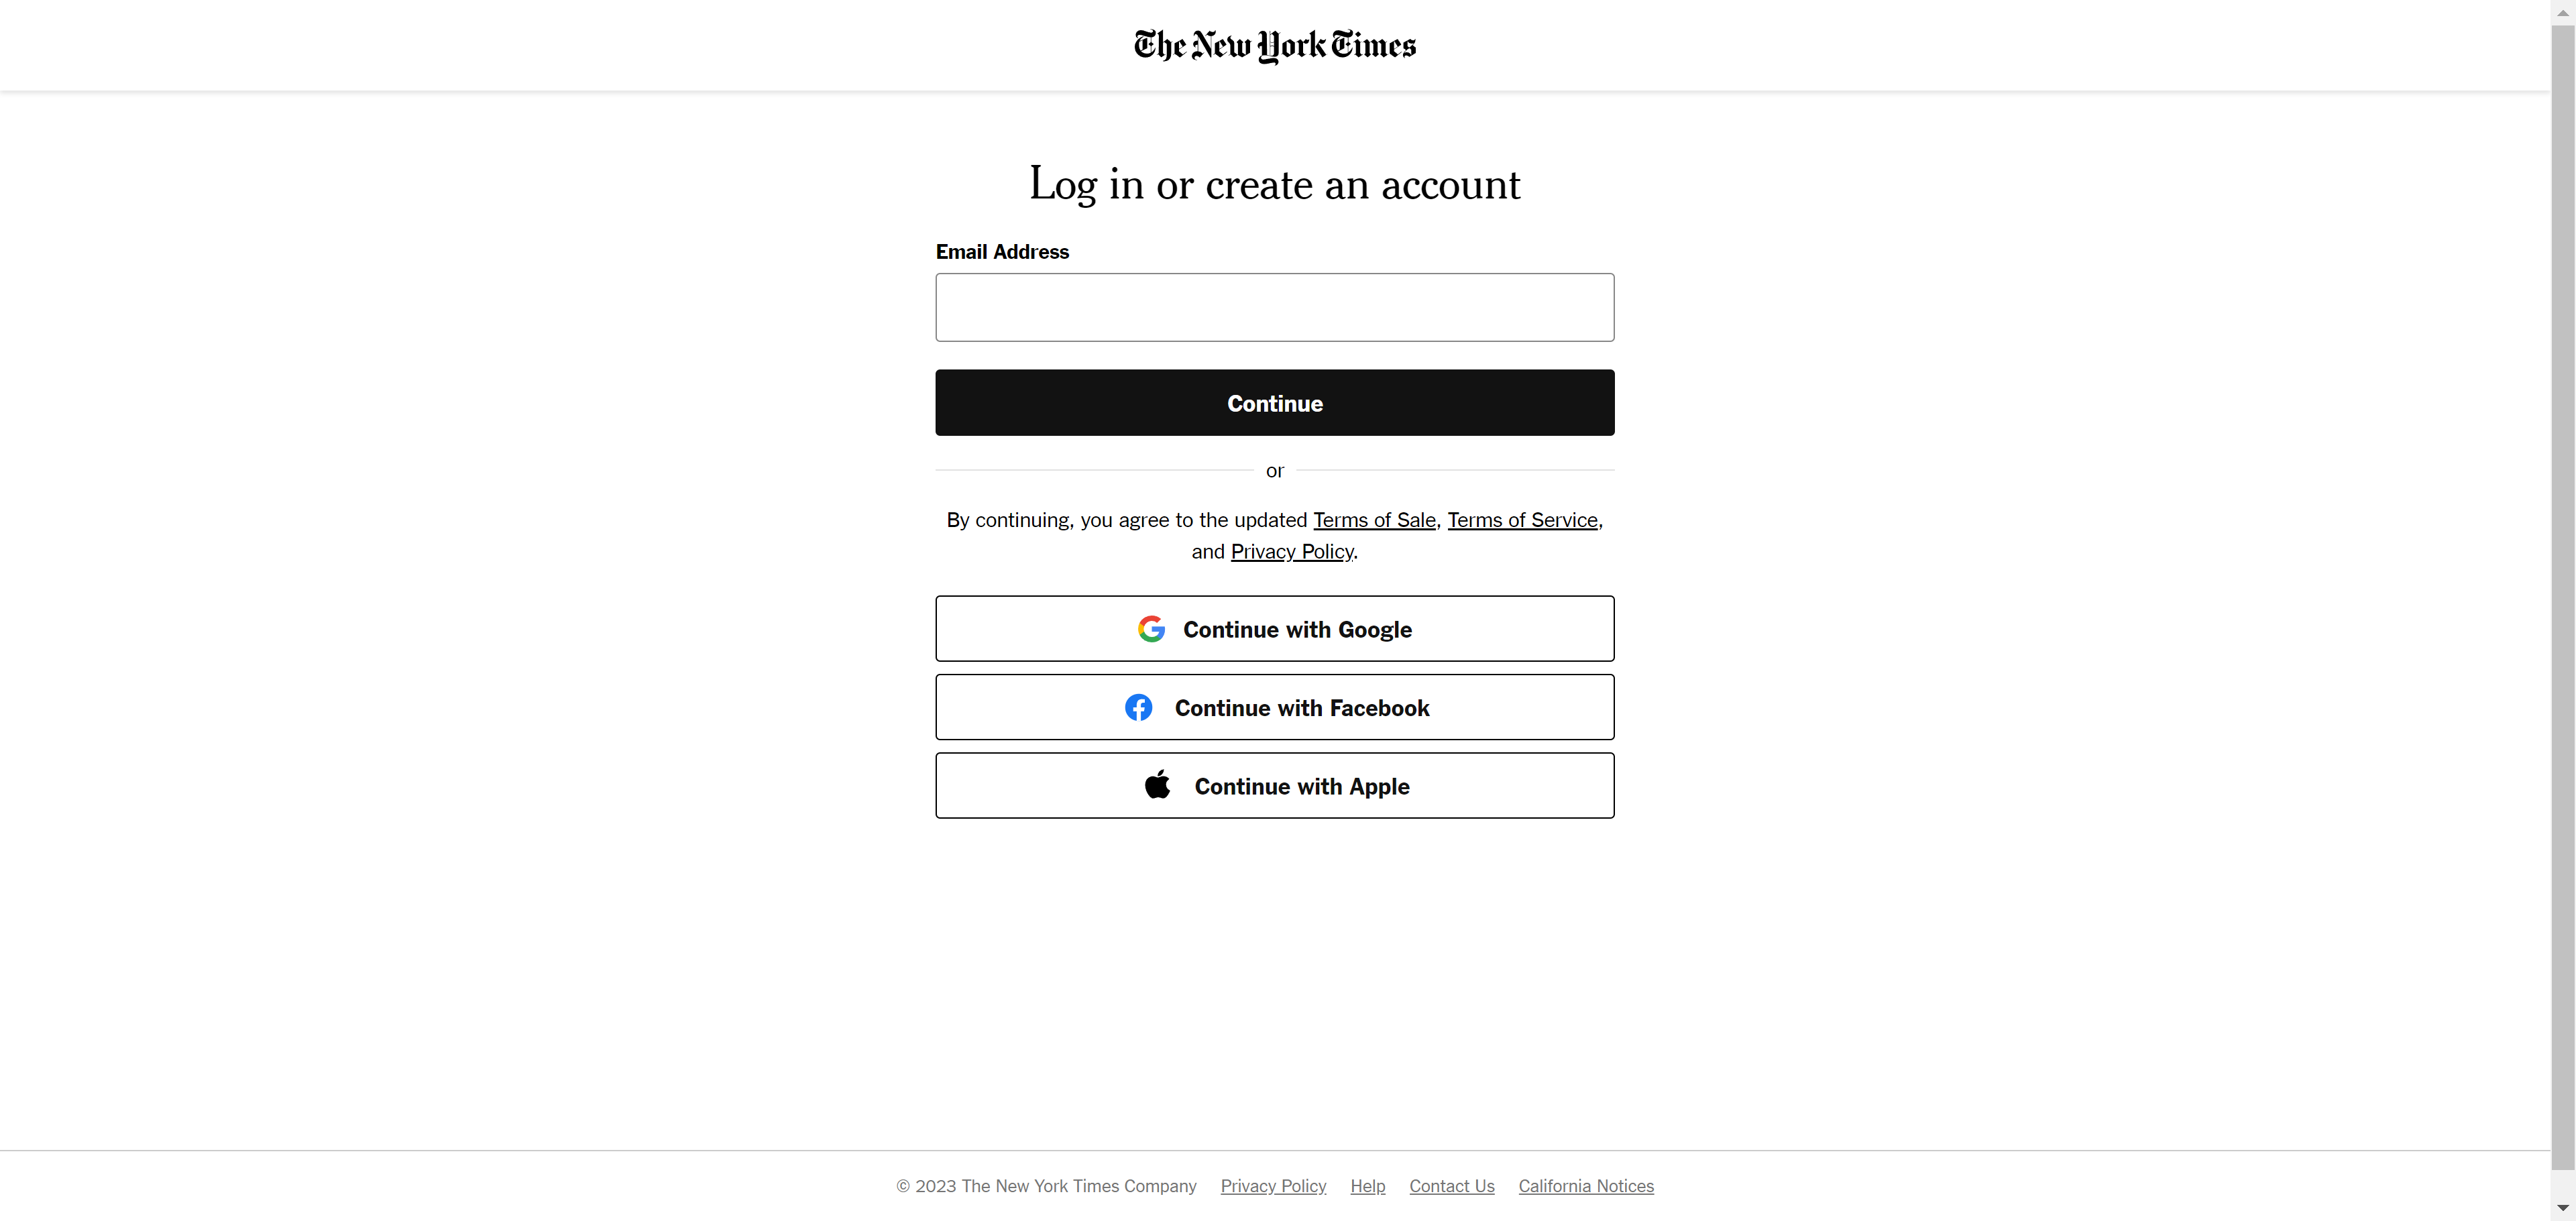login_button: (935, 368, 1615, 435)
login_form: (928, 233, 1621, 445)
